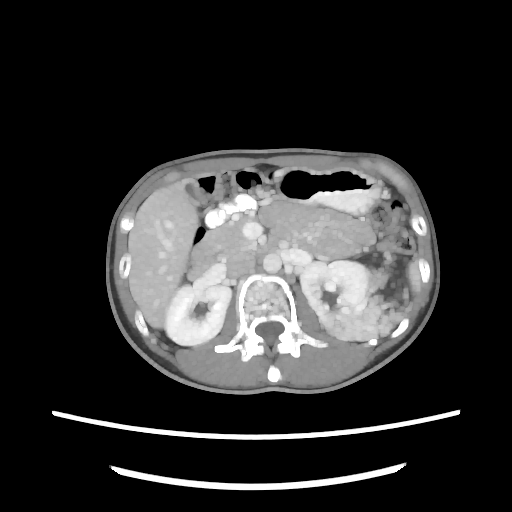Lesion: (325, 263, 404, 335)
